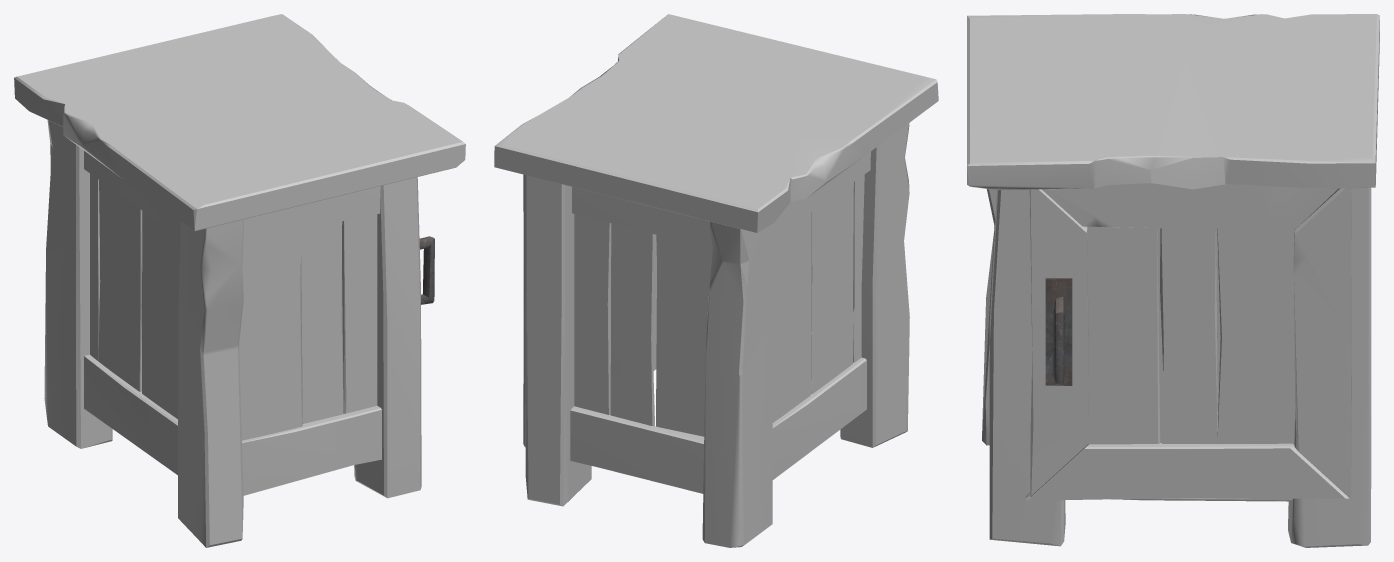
The model's file is SM_Cabinet_02.fbx.
The picture shows the model from 3 angles, left to right: view 1: azimuth 30°, elevation 25°; view 2: azimuth 150°, elevation 25°; view 3: azimuth 270°, elevation 25°; orthographic projection. The views are drawn at different scales.
Visible parts, largest first — view 1: SM_Cabinet_02_LOD0; view 2: SM_Cabinet_02_LOD0; view 3: SM_Cabinet_02_LOD0.
Boxes of the visible parts, bbox=[...] form: SM_Cabinet_02_LOD0: bbox=[14, 14, 465, 547]; SM_Cabinet_02_LOD0: bbox=[494, 14, 938, 547]; SM_Cabinet_02_LOD0: bbox=[967, 14, 1379, 547].
Bounding box in the file's own units: 74.06 × 83.04 × 89.14.
